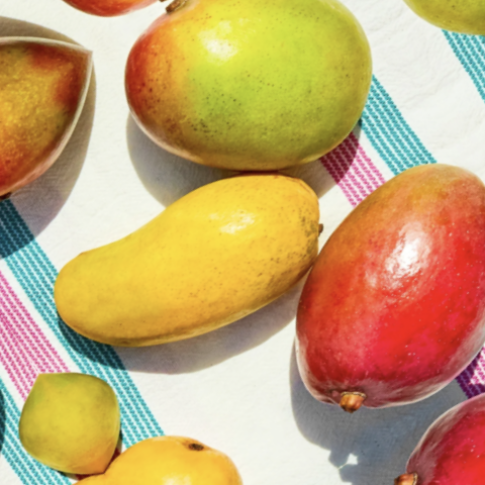mango: (15, 106, 380, 425), (189, 120, 485, 485), (50, 0, 430, 265)
